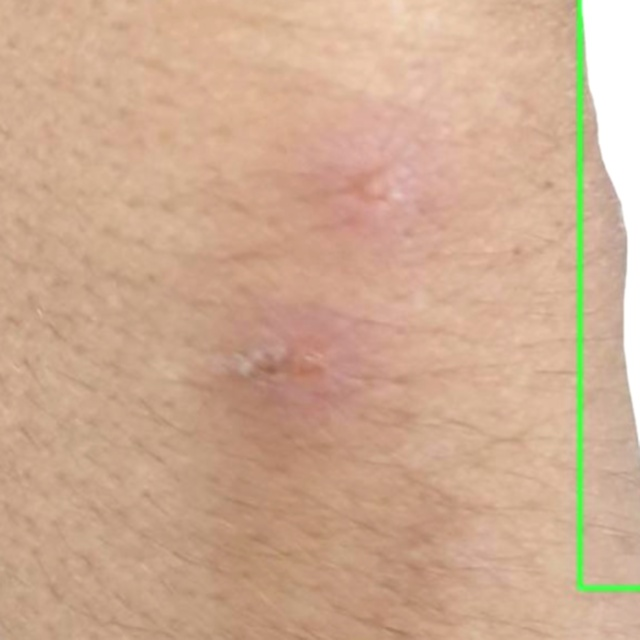Scabies: (579, 0, 639, 587)
